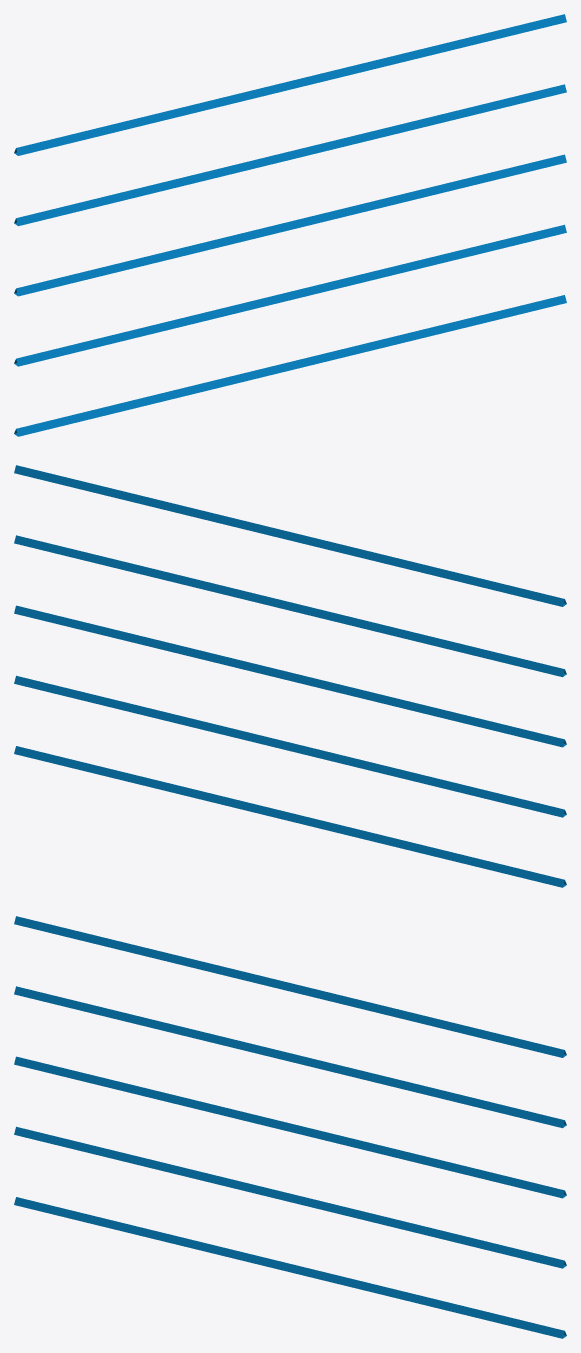
Rendered from Barriaer_007_laser_001.fbx.
3 views of the same model, one above another, from view 1: azimuth 30°, elevation 25°; view 2: azimuth 150°, elevation 25°; view 3: azimuth 330°, elevation 25° (orthographic).
Parts seen in each view (by area): view 1: Barriaer_007_laser_001; view 2: Barriaer_007_laser_001; view 3: Barriaer_007_laser_001.
Boxes of the visible parts, box(x1,y1,x2,y2) form: Barriaer_007_laser_001: box(14, 14, 566, 436); Barriaer_007_laser_001: box(14, 465, 566, 887); Barriaer_007_laser_001: box(14, 916, 566, 1338).
Bounding box in the file's own units: 215 × 2.83 × 107.
